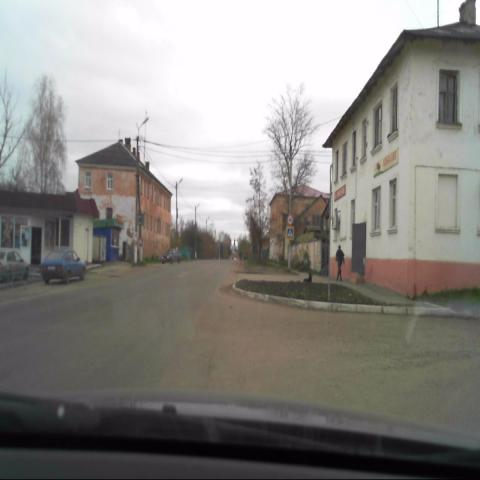3_24: (286, 213, 294, 226)
5_19_1: (286, 226, 294, 240)
